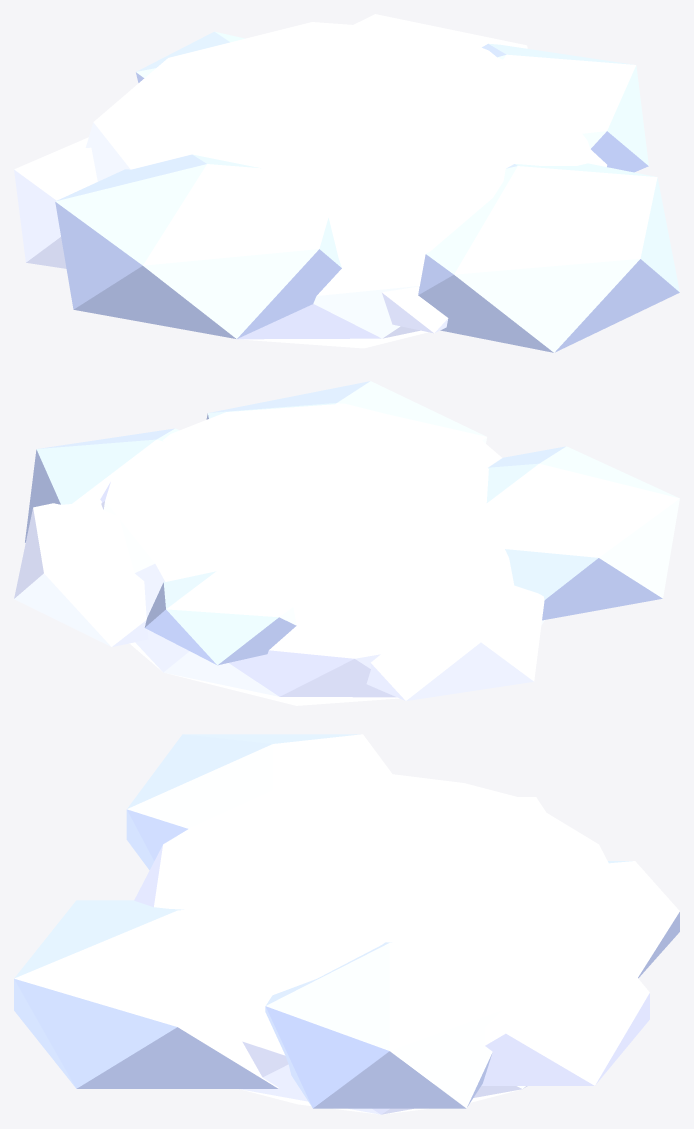
Rendered from vapor_puff.glb.
3 views of the same model, one above another, from view 1: azimuth 30°, elevation 25°; view 2: azimuth 150°, elevation 25°; view 3: azimuth 270°, elevation 25° (orthographic). The views are drawn at different scales.
Visible parts, largest first — view 1: vapor_puff; view 2: vapor_puff; view 3: vapor_puff.
Part boxes in pixels (x1,y1,x2,y2): vapor_puff: [14, 14, 679, 352]; vapor_puff: [14, 381, 679, 705]; vapor_puff: [14, 734, 679, 1114].
Size of the model in its own units: 1.15 by 0.44 by 1.04.
